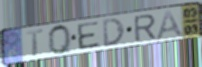A: (155, 9, 186, 41)
D: (101, 17, 126, 48)
E: (76, 20, 102, 51)
Q: (47, 23, 74, 56)
R: (133, 13, 158, 43)
T: (25, 28, 45, 58)
